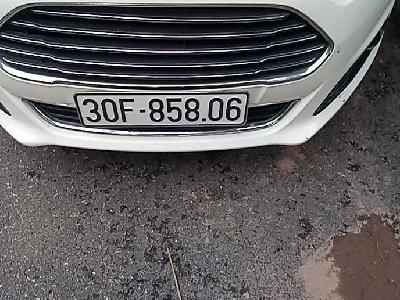lisence: (72, 90, 252, 130)
